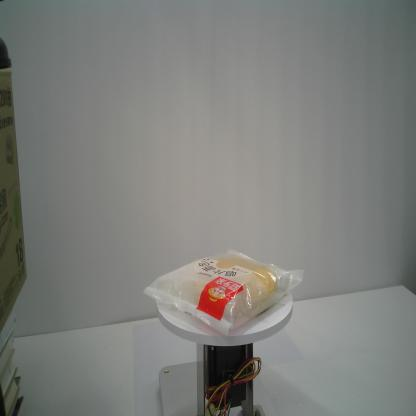Dessert: (142, 240, 306, 340)
